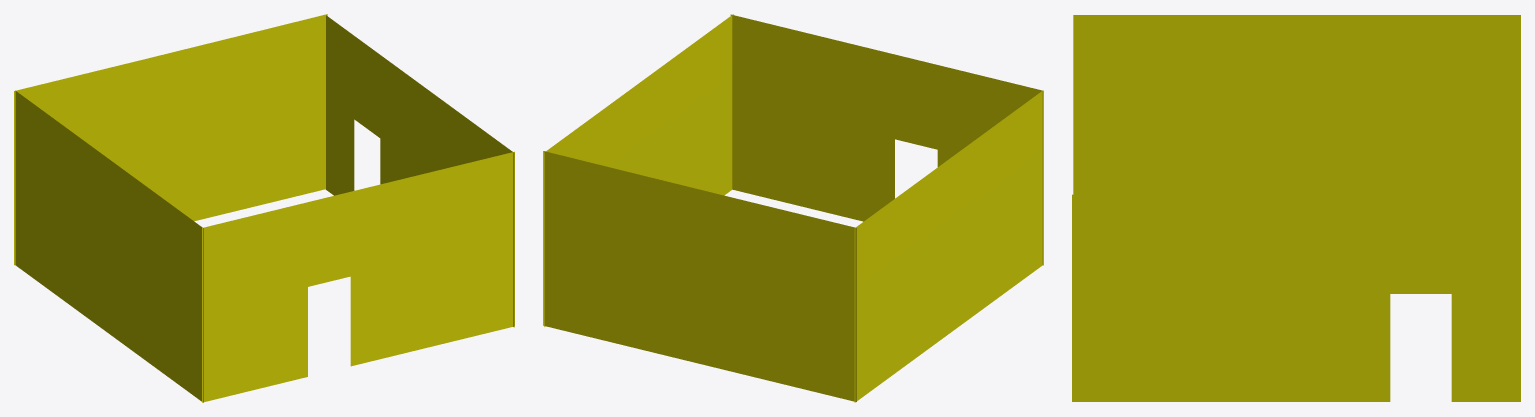
3 renders of one model, left to right at view 1: azimuth 30°, elevation 25°; view 2: azimuth 150°, elevation 25°; view 3: azimuth 270°, elevation 25°, orthographic. The views are drawn at different scales.
Visible parts, largest first — view 1: W03_WP_03; view 2: W03_WP_03; view 3: W03_WP_03.
Part boxes in pixels (<box>): W03_WP_03: <box>14,14,514,402</box>; W03_WP_03: <box>543,14,1043,402</box>; W03_WP_03: <box>1072,15,1520,401</box>.
Bounding box in the file's own units: 848 × 453 × 886.
